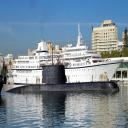submarine: (7, 66, 120, 93)
